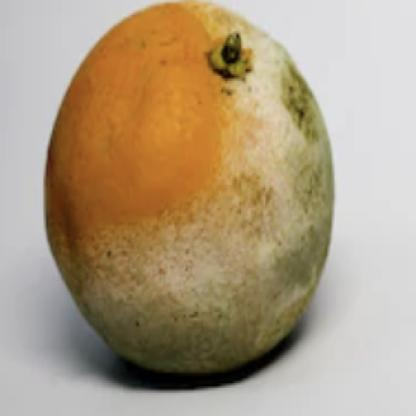rotten: (45, 1, 333, 378)
